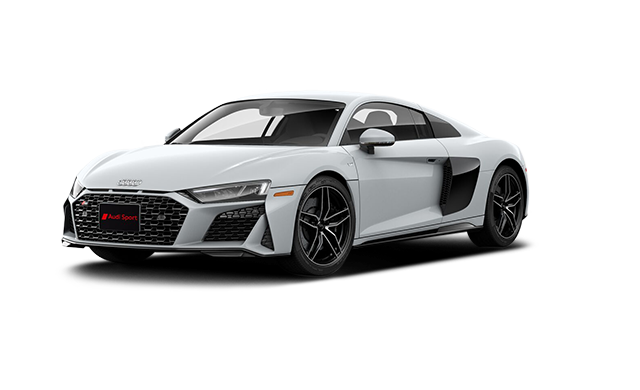audi: (59, 90, 531, 275)
